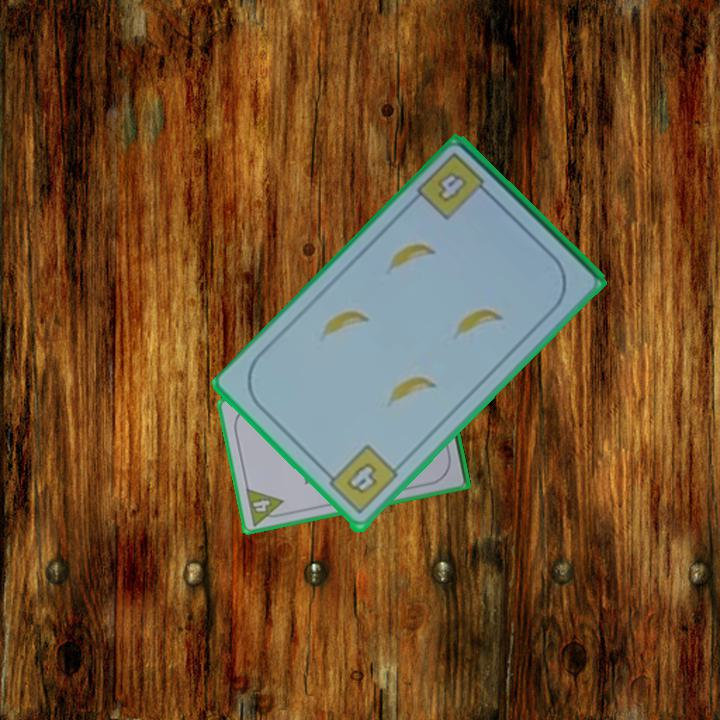4b: (413, 149, 496, 224), (320, 442, 401, 518)
4p: (242, 485, 288, 529)
